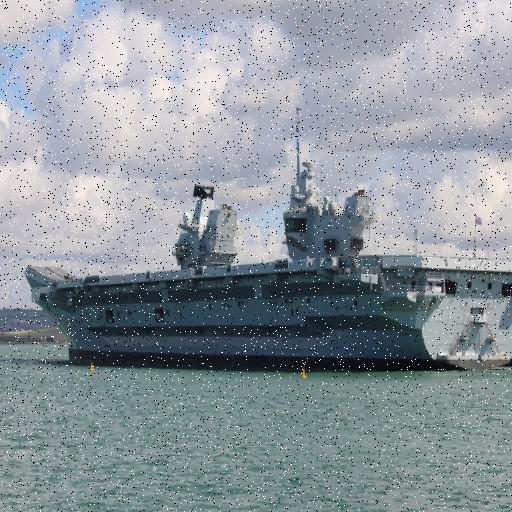Portanaves: (16, 101, 512, 371)
